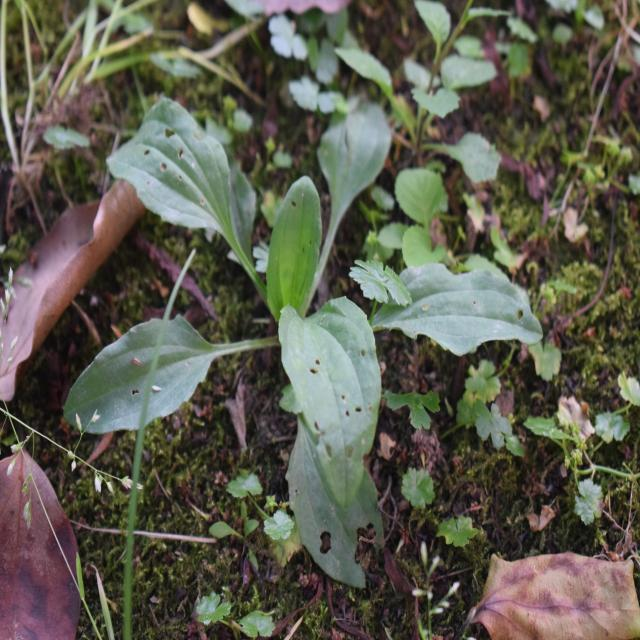plantain: (114, 94, 493, 501)
